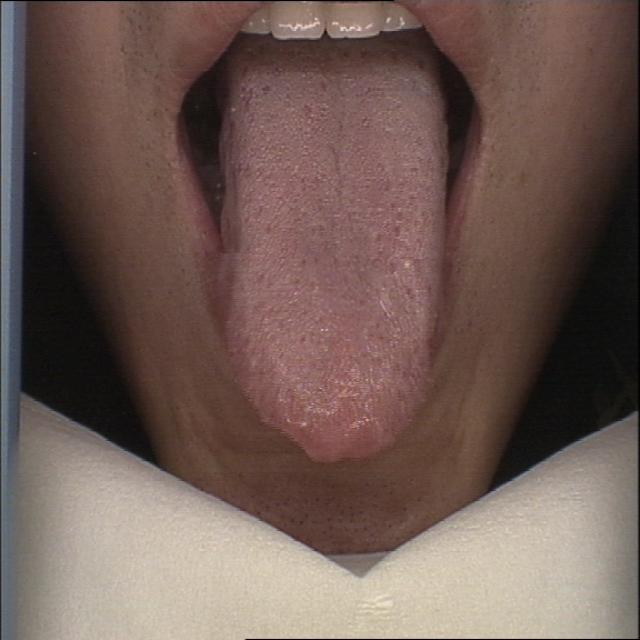tongue: (220, 43, 454, 465)
